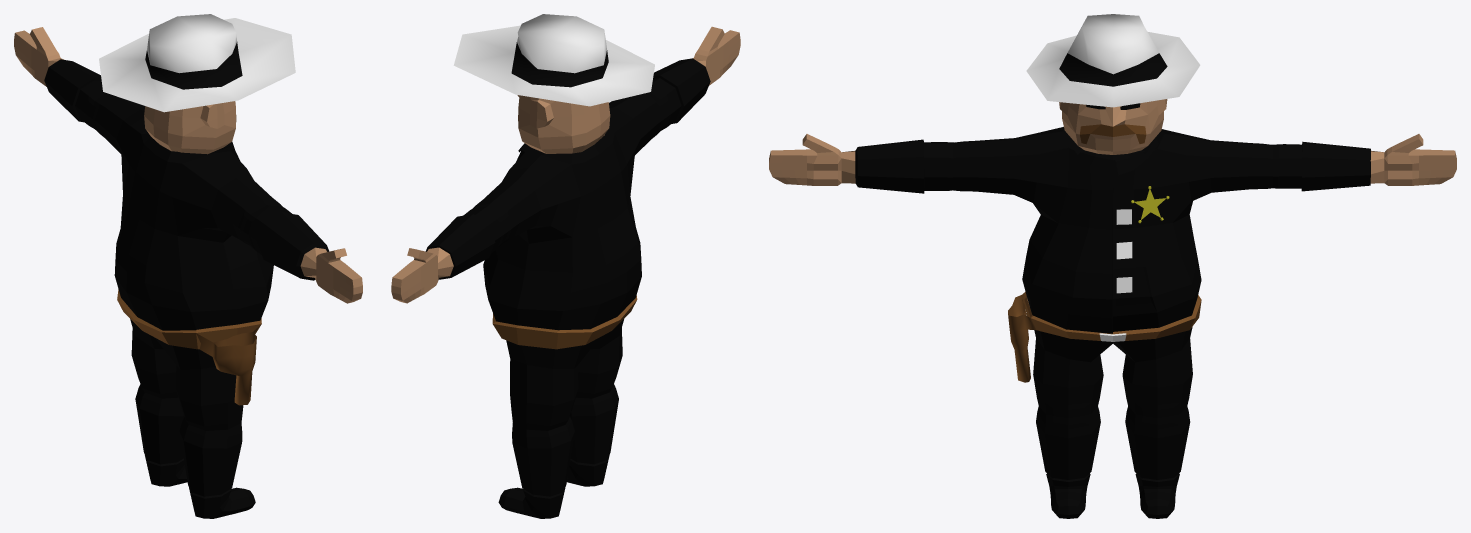
File: sceriffo.fbx
3 renders of one model, left to right at view 1: azimuth 30°, elevation 25°; view 2: azimuth 150°, elevation 25°; view 3: azimuth 270°, elevation 25°, orthographic.
Parts seen in each view (by area): view 1: Cube, Cube.003; view 2: Cube, Cube.003; view 3: Cube, Cube.003.
Boxes of the visible parts, <box> form: Cube: <box>14,27,362,518</box>; Cube.003: <box>99,14,295,405</box>; Cube: <box>391,26,740,518</box>; Cube.003: <box>453,14,654,106</box>; Cube: <box>769,99,1456,518</box>; Cube.003: <box>1008,14,1200,382</box>.
Size of the model in its own units: 136 by 323 by 424.
